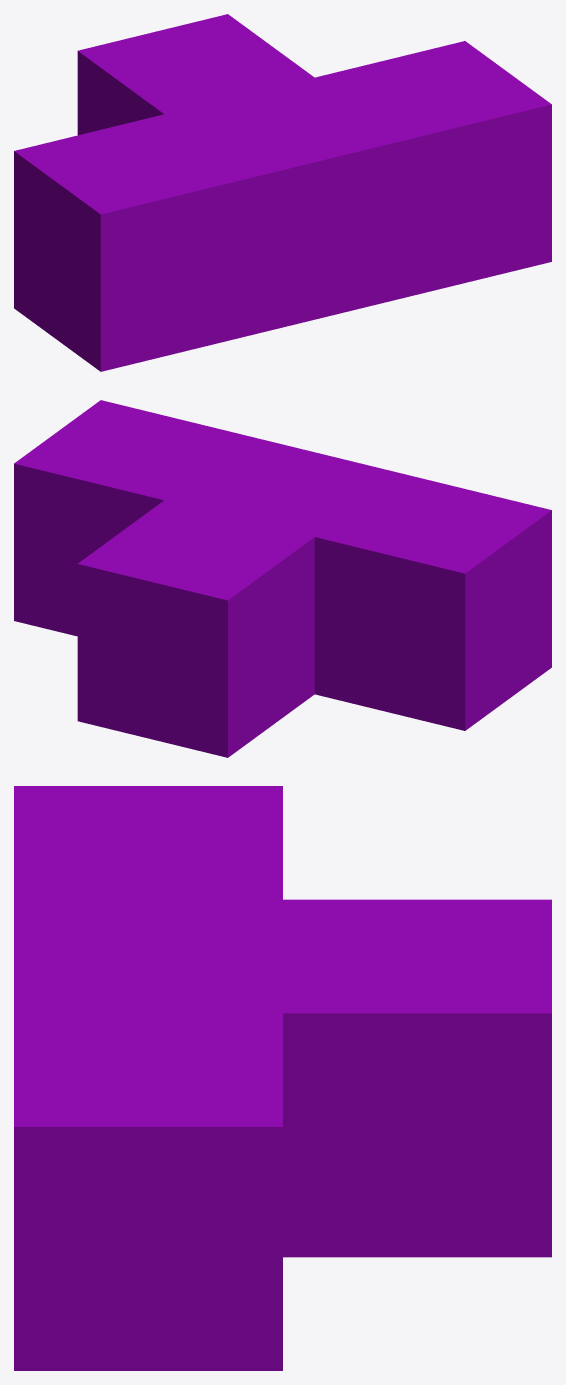
Rendered from teewee.glb.
3 views of the same model, one above another, from view 1: azimuth 30°, elevation 25°; view 2: azimuth 150°, elevation 25°; view 3: azimuth 270°, elevation 25° (orthographic). The views are drawn at different scales.
Visible parts, largest first — view 1: Cube; view 2: Cube; view 3: Cube.
Part boxes in pixels (left/top/right/bottom): Cube: left=14, top=14, right=551, bottom=371; Cube: left=14, top=400, right=551, bottom=757; Cube: left=14, top=786, right=551, bottom=1370.
Size of the model in its own units: 3 by 1 by 2.
